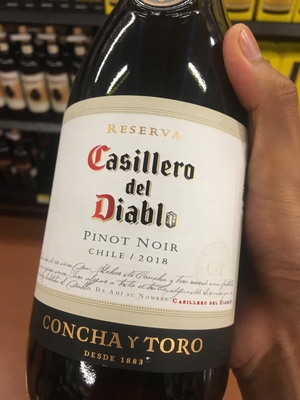casillero del diablo pinot noir: (33, 10, 255, 400)
